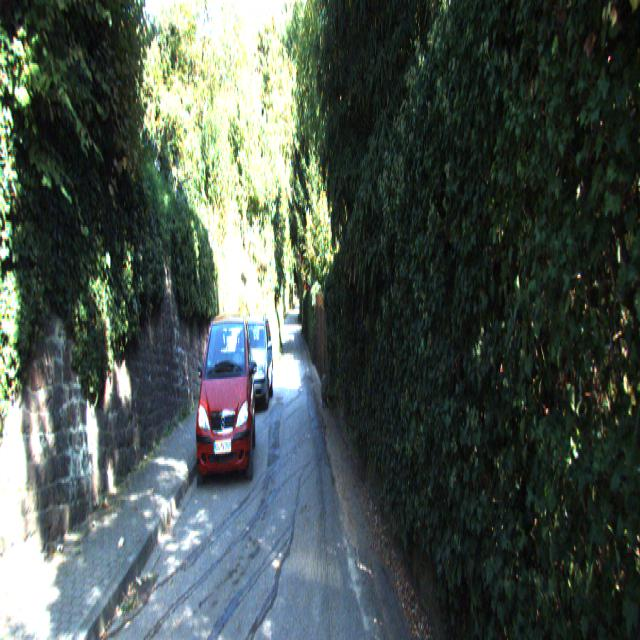Car: (193, 314, 258, 502), (234, 314, 274, 423)
